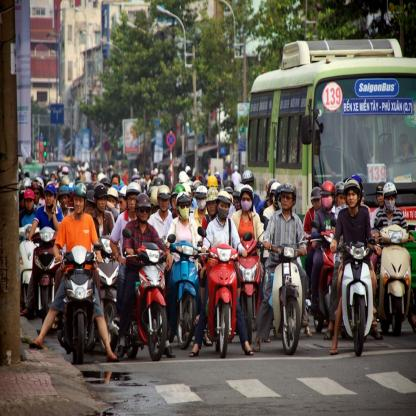Helmet: (134, 192, 151, 223), (343, 178, 361, 207), (380, 182, 396, 214), (72, 184, 88, 215), (322, 178, 336, 212), (280, 180, 296, 209), (175, 191, 190, 221), (217, 190, 232, 218), (127, 182, 140, 212), (158, 184, 172, 211), (194, 184, 207, 213), (310, 186, 324, 212), (94, 186, 107, 212), (207, 187, 219, 215), (232, 181, 243, 210), (374, 182, 386, 207), (242, 184, 252, 213), (268, 181, 280, 203), (105, 186, 118, 206), (58, 186, 69, 209), (22, 188, 33, 210), (148, 186, 158, 209), (264, 178, 279, 193), (27, 180, 41, 196), (241, 169, 255, 185), (274, 183, 282, 210), (172, 181, 185, 196), (336, 182, 344, 206), (352, 176, 362, 193), (207, 174, 219, 188), (115, 183, 127, 196), (99, 178, 111, 190), (22, 176, 32, 189), (138, 179, 148, 192), (194, 179, 202, 195), (33, 175, 43, 187), (50, 169, 58, 183), (213, 174, 222, 186), (225, 179, 234, 191), (68, 181, 75, 196), (93, 181, 106, 189), (61, 166, 70, 177), (179, 171, 188, 182), (88, 190, 94, 205), (88, 180, 97, 190), (153, 176, 162, 186), (183, 184, 192, 192), (151, 170, 157, 181), (145, 168, 150, 179), (45, 179, 54, 185), (130, 176, 139, 181), (222, 188, 232, 192), (58, 162, 61, 175), (45, 172, 48, 180)
